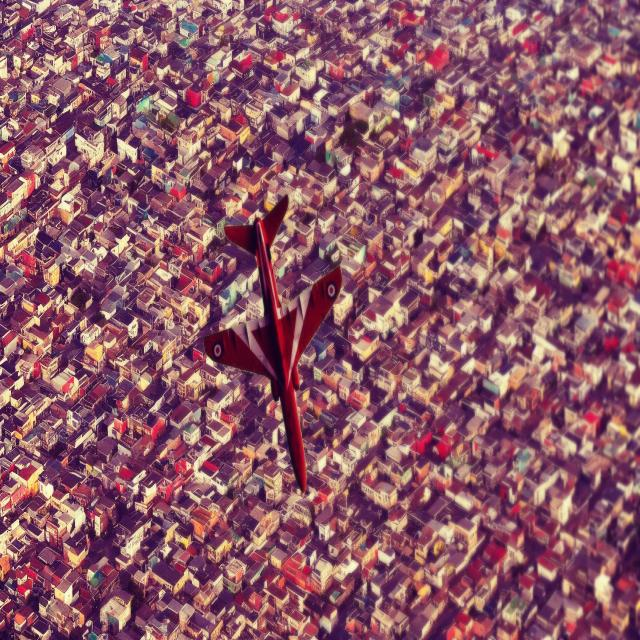airplane: (202, 193, 343, 494)
